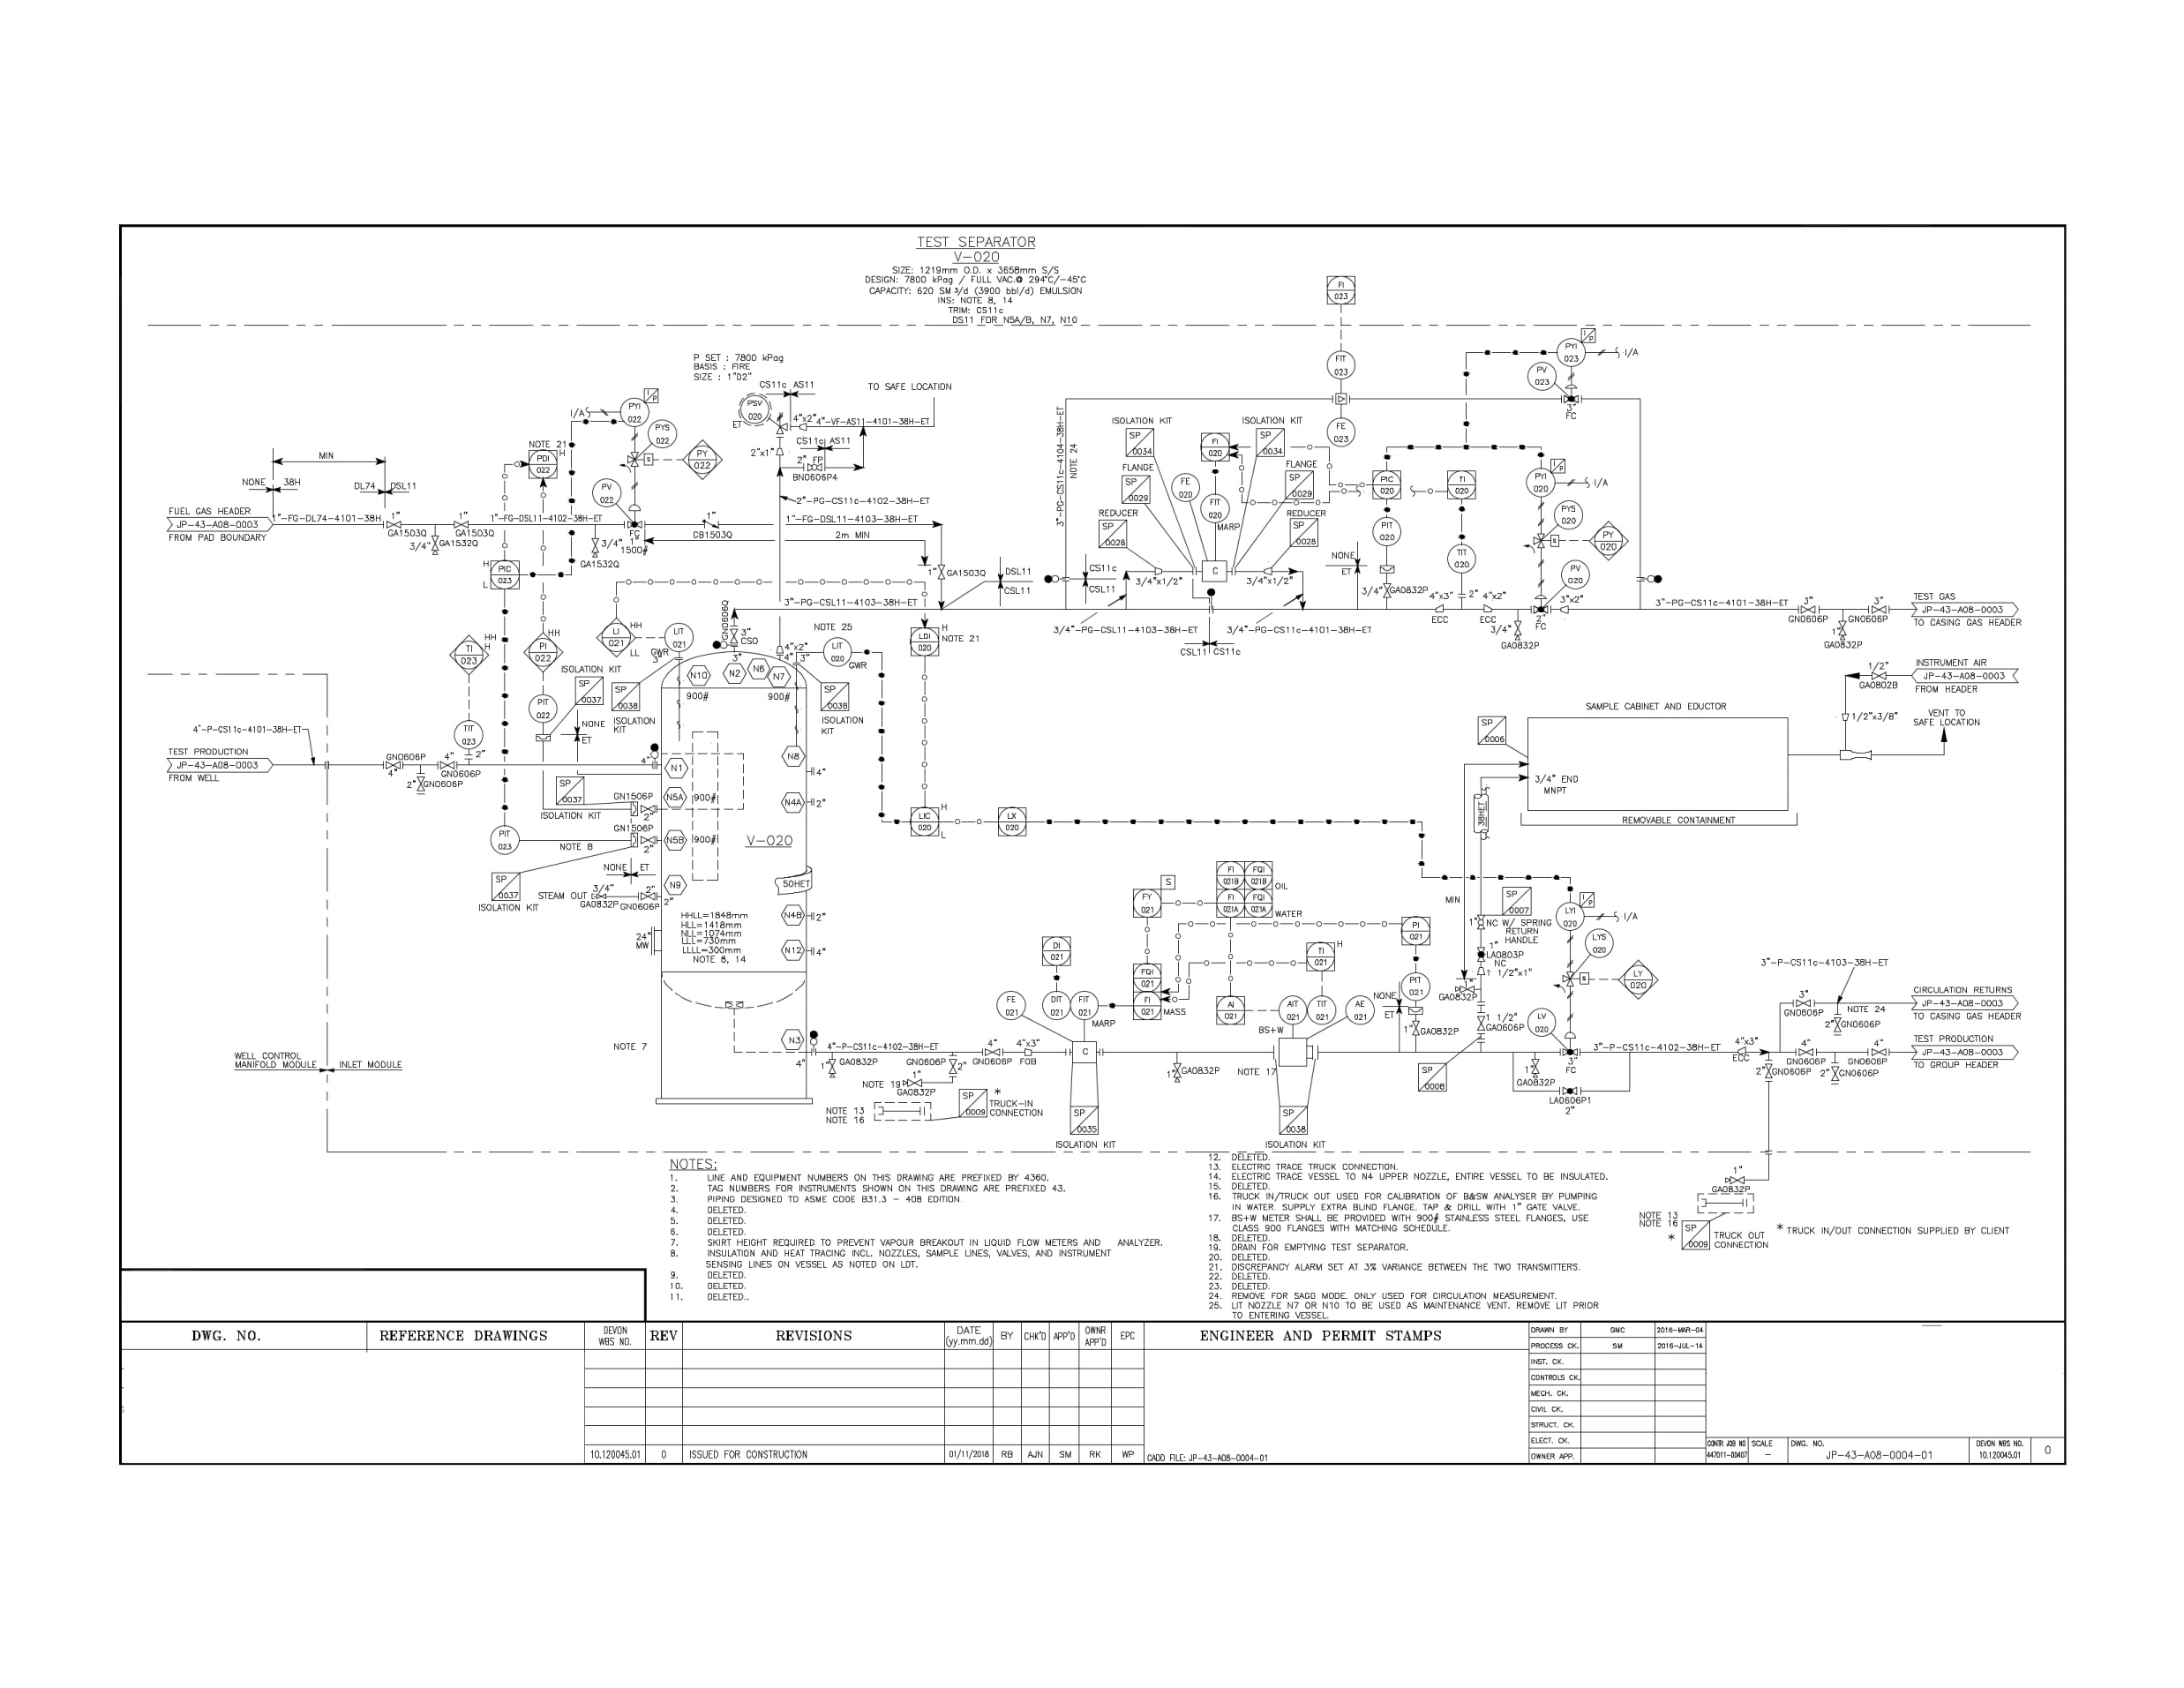Inline Instrument: (1525, 1005, 1558, 1039), (1344, 993, 1377, 1027), (1276, 991, 1310, 1025), (995, 988, 1028, 1021), (1069, 988, 1103, 1021), (1170, 470, 1204, 504), (1525, 358, 1558, 392), (1553, 496, 1587, 530), (1560, 557, 1594, 590), (1370, 516, 1404, 550), (1523, 465, 1556, 498), (489, 823, 523, 856), (527, 690, 560, 723), (590, 475, 624, 509), (645, 417, 679, 450), (821, 635, 854, 668), (663, 621, 697, 654), (1445, 543, 1478, 574), (1583, 927, 1617, 959), (452, 718, 486, 750)
Panel Instrument: (527, 447, 560, 482), (1213, 856, 1246, 892), (1243, 887, 1276, 922), (1198, 429, 1232, 465), (1370, 466, 1404, 502), (1445, 466, 1478, 502), (909, 624, 943, 658), (909, 805, 943, 839), (995, 803, 1028, 837), (1039, 934, 1072, 968), (1399, 913, 1432, 947), (1131, 959, 1165, 993), (1214, 993, 1248, 1027), (489, 559, 523, 592), (1324, 273, 1358, 307), (1303, 940, 1337, 973), (1133, 887, 1166, 920)
